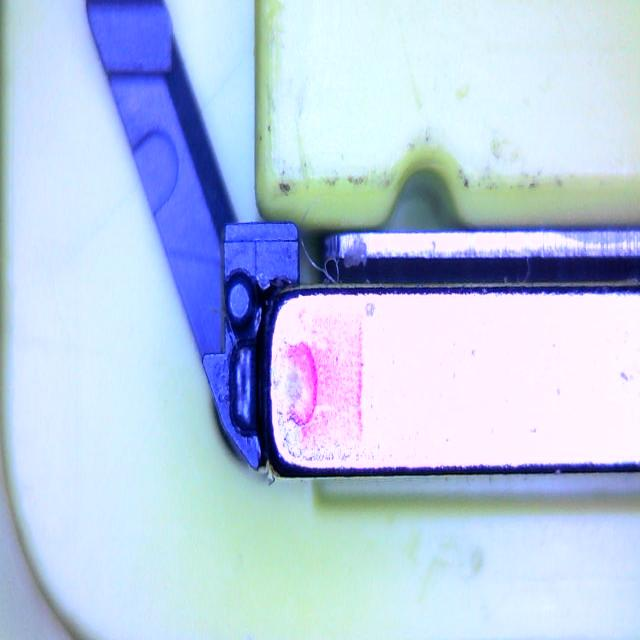over: (228, 337, 264, 437)
